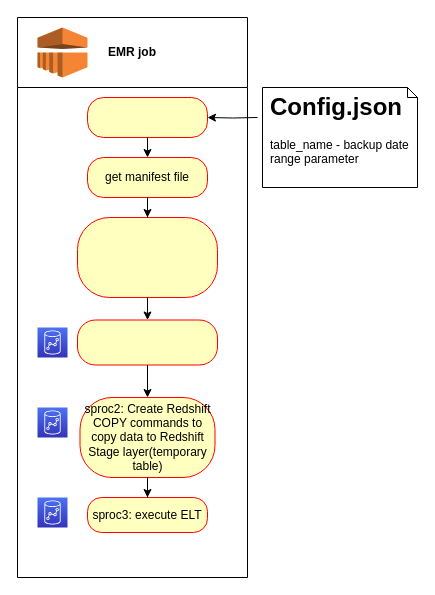
The diagram is 435 pixels wide and 595 high, and some of its shapes have lost their labels. The centre of each missing label's shape, as x and y in pixels:
"parse target database’ schema’ table name from manifest file path" belongs at pixel 147 257.
"Read config_json" belongs at pixel 147 117.
"sproc1: create #temp table using table as template" belongs at pixel 147 342.
